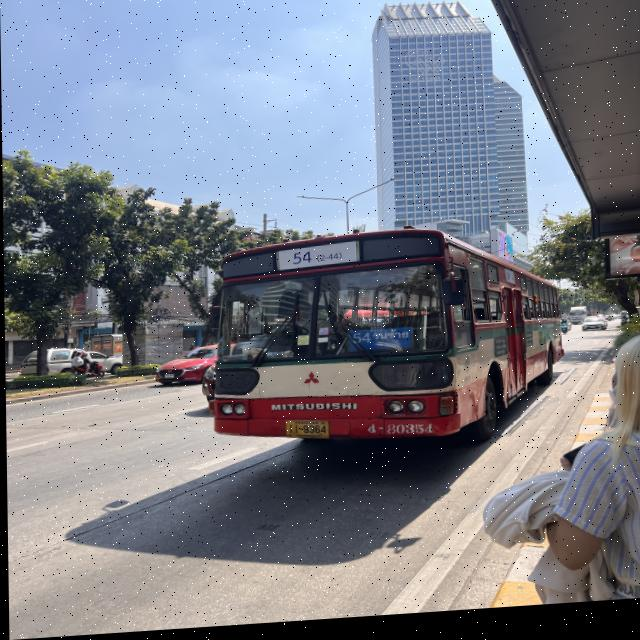BMTA-bus: (199, 234, 562, 449)
Bus Line Number: (275, 249, 361, 270)
Bus Side Number: (359, 419, 436, 448)
Destination Sign: (346, 330, 415, 358)
